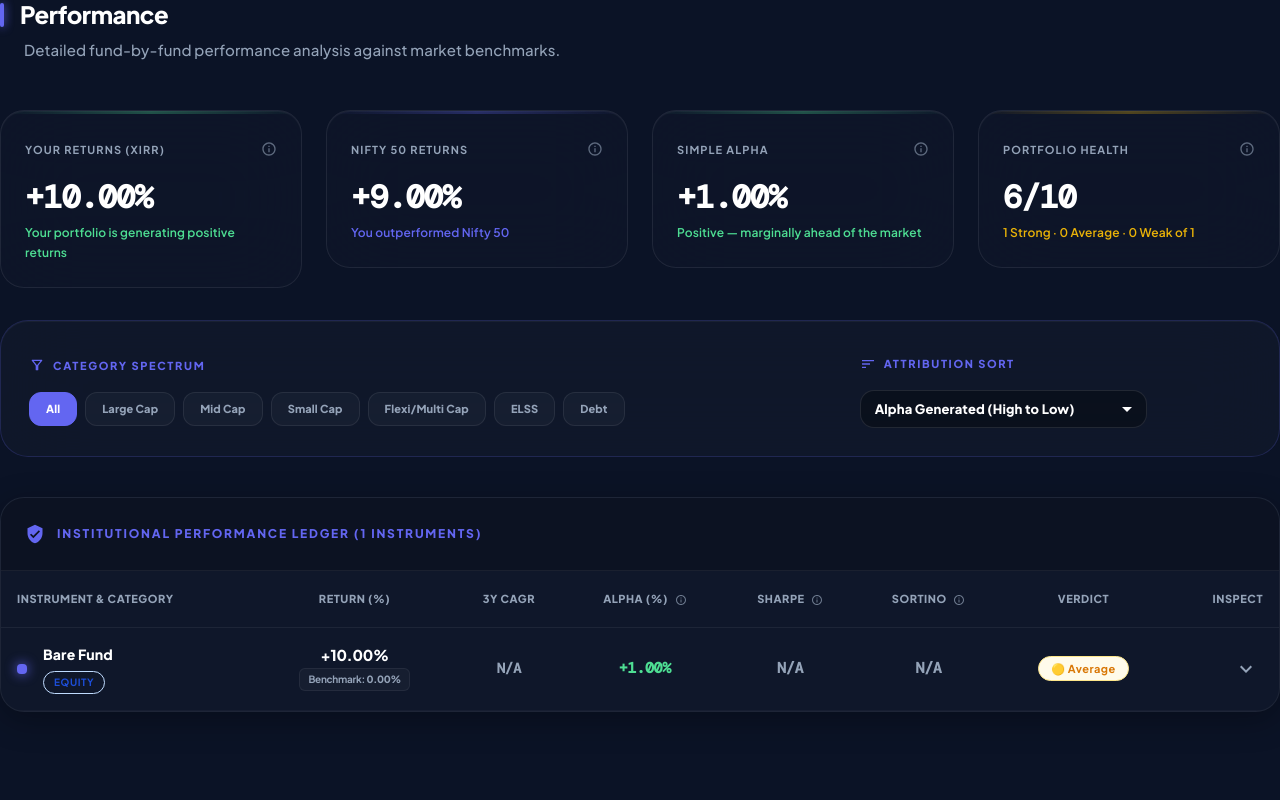
Test: PerformanceTab › falls back category peers when fund has no cap_type or category
The image size is (1280, 800).
Step 1. Click the text "Bare Fund" → (78, 655), box x1=43 y1=644 x2=113 y2=665
(page scrolled)
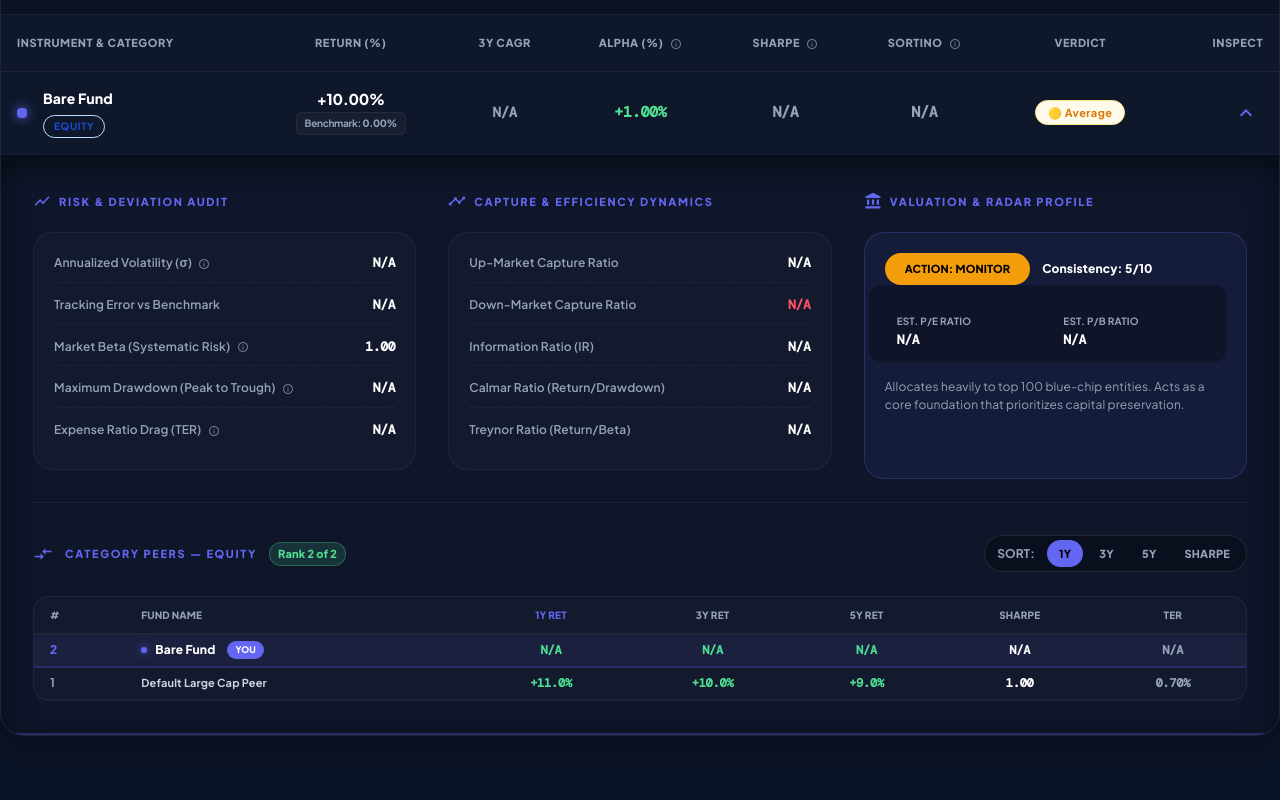
Check: the text "Default Large Cap Peer" is shown, box x1=141 y1=676 x2=267 y2=689
